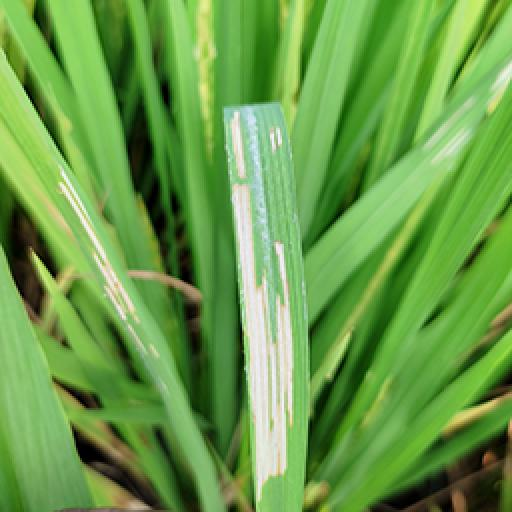Bacterial Leaf Blight: (226, 108, 312, 508), (46, 164, 150, 330), (416, 90, 476, 174)
